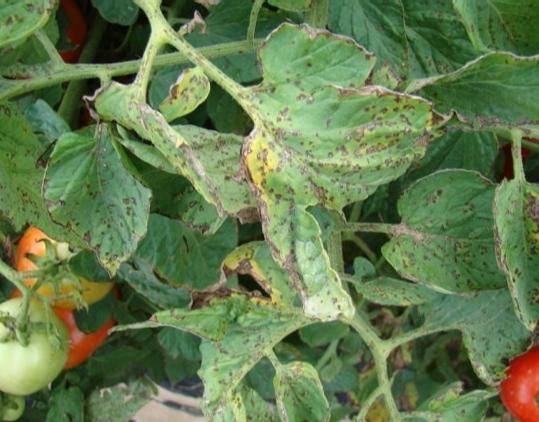Tomato leaf bacterial spot: (209, 15, 430, 311), (368, 162, 532, 300), (43, 107, 160, 286), (182, 278, 294, 422), (405, 50, 539, 136), (477, 169, 539, 339), (265, 361, 331, 422)
